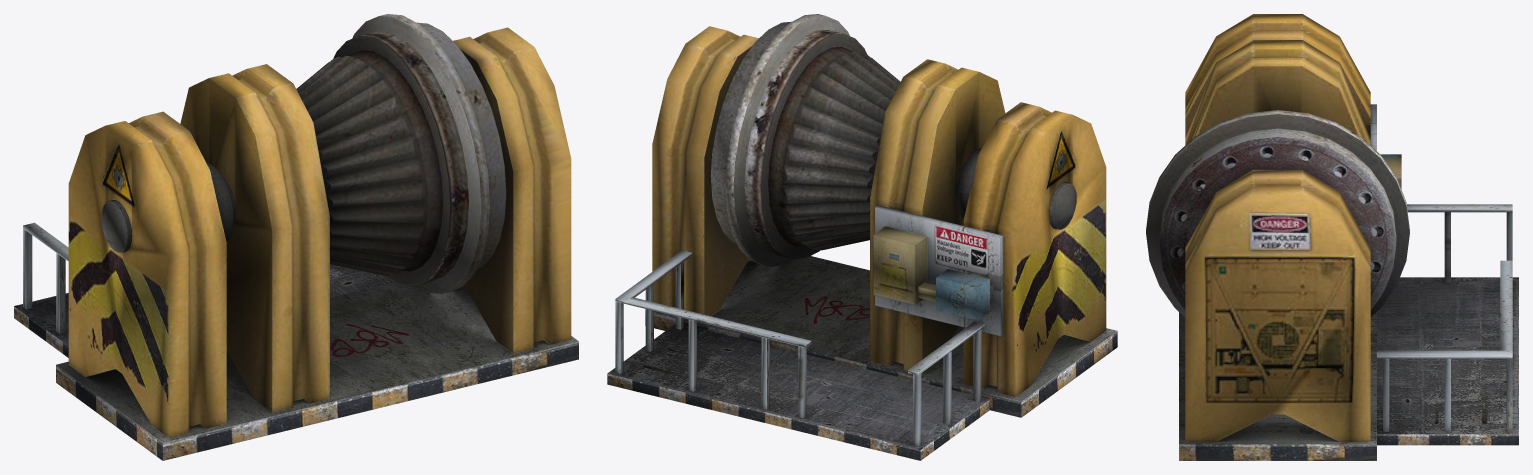
The model's file is nf_generator.glb.
The picture shows the model from 3 angles, left to right: view 1: azimuth 30°, elevation 25°; view 2: azimuth 150°, elevation 25°; view 3: azimuth 270°, elevation 25°; orthographic projection. The views are drawn at different scales.
Parts seen in each view (by area): view 1: objGenerator; view 2: objGenerator; view 3: objGenerator.
Boxes of the visible parts, box(x1,y1,x2,y2) form: objGenerator: box(14, 14, 578, 460); objGenerator: box(607, 14, 1117, 460); objGenerator: box(1146, 14, 1518, 460).
Bounding box in the file's own units: 144 × 107 × 121.
1 material, 1 textured.
